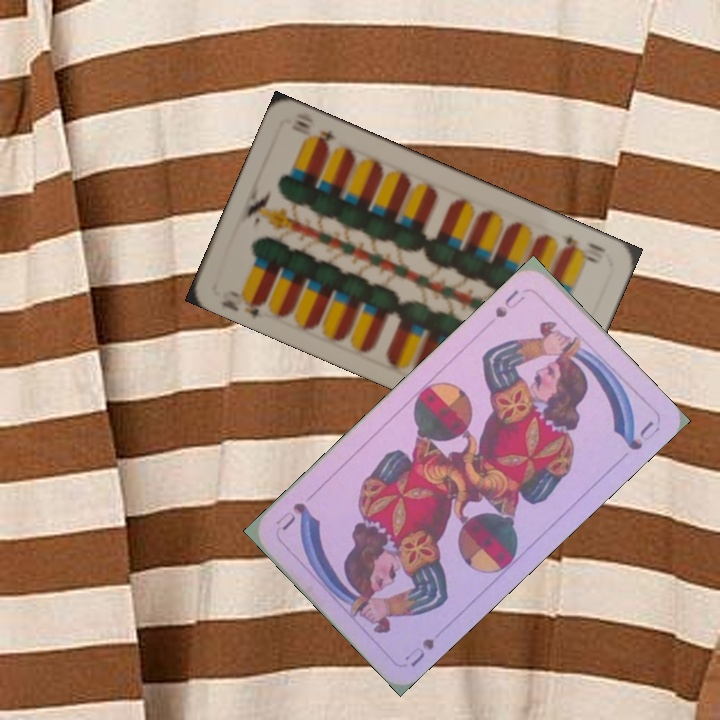E10: (217, 286, 269, 321), (556, 232, 609, 266)
SU: (400, 634, 437, 670), (491, 285, 528, 320)
